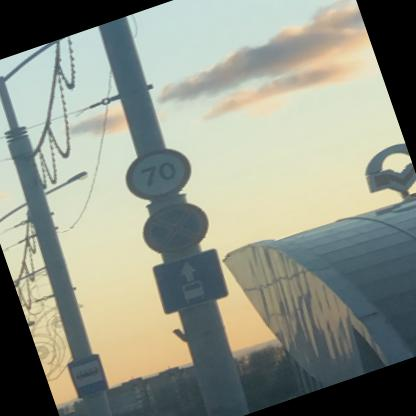speedlimit: (117, 140, 196, 208)
